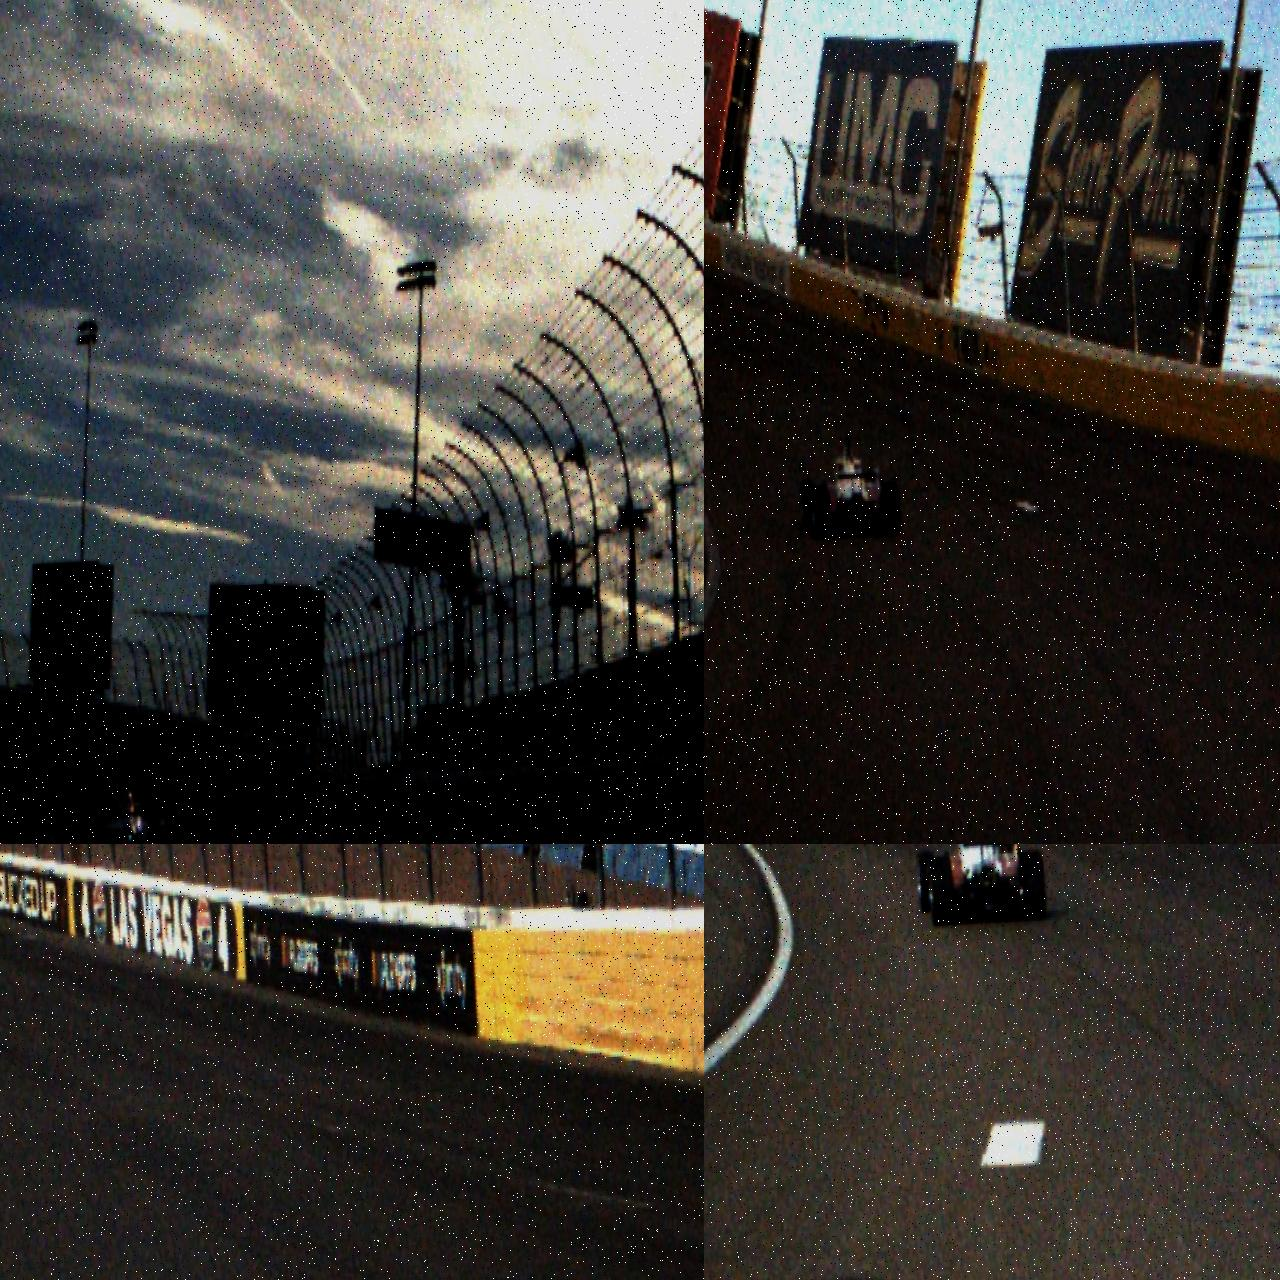AV: (796, 433, 901, 540), (912, 844, 1046, 927), (89, 779, 168, 844)
Wheel: (1020, 849, 1046, 921), (927, 857, 954, 926), (915, 850, 938, 913), (810, 485, 831, 539), (881, 481, 903, 535), (798, 477, 815, 526), (150, 817, 166, 844), (91, 821, 108, 844)
